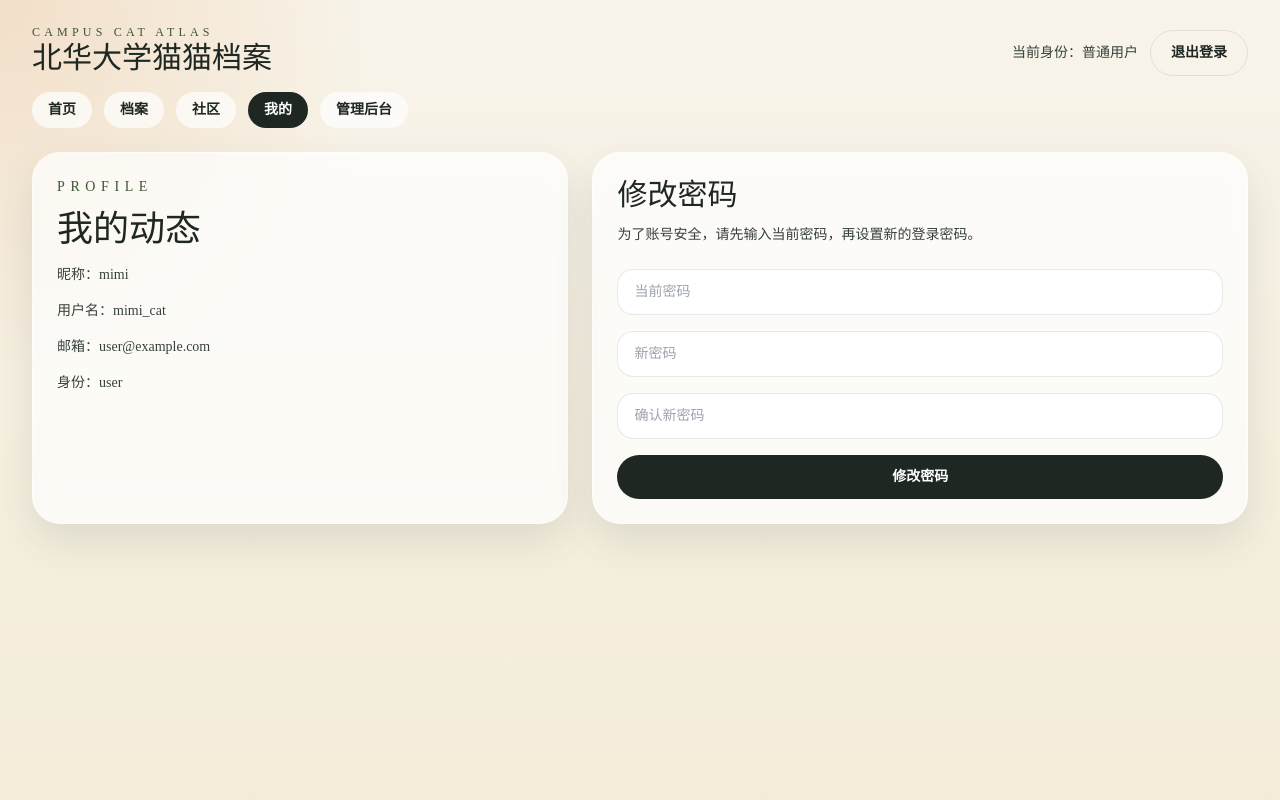
Test: Public pages › blocks password change when the confirmation password does not match
The width and height of the screenshot is (1280, 800).
Expected: the text "用户名：mimi_cat" is shown, [57,303,166,318]
Step 1. Type "Secret123!" into the password field with placeholder "当前密码" → (920, 292), box [617,269,1223,315]
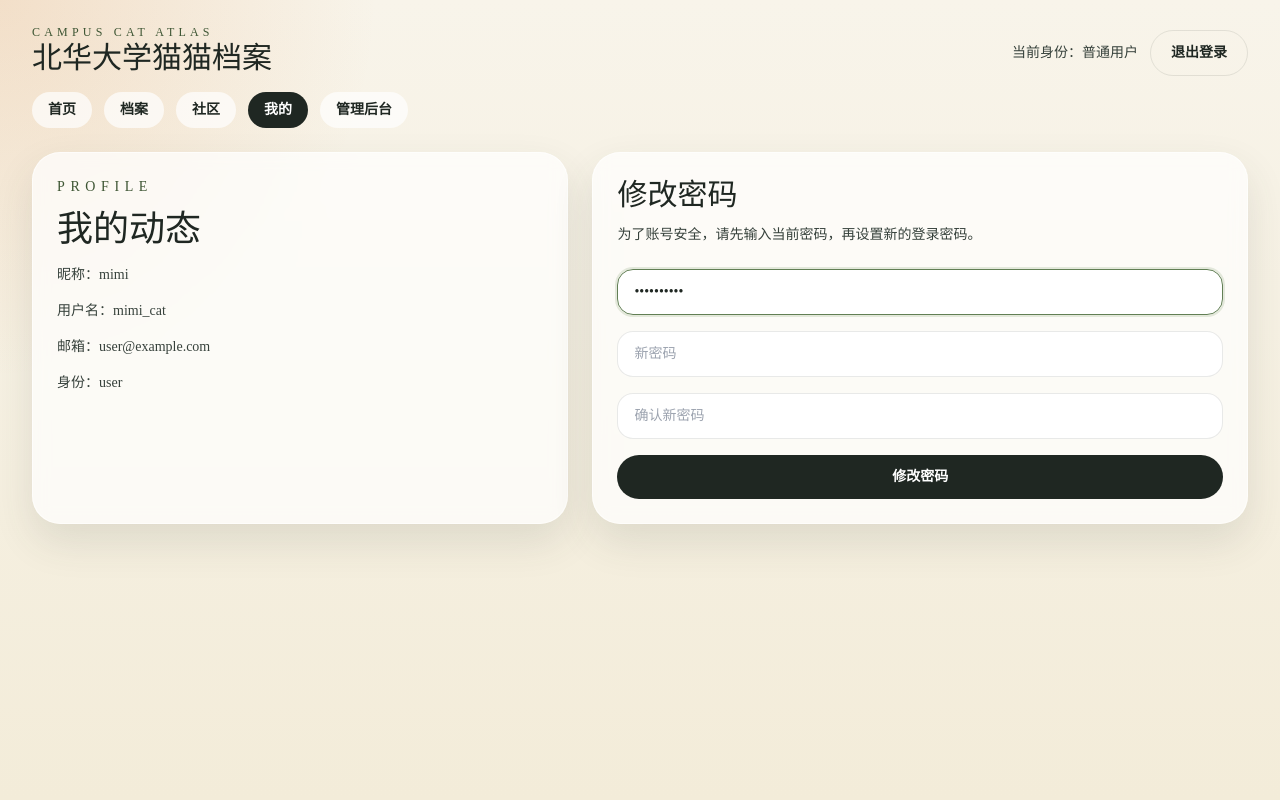
Step 2. Type "BrandNew123!" into the password field with placeholder "新密码" → (920, 354), box [617,331,1223,377]
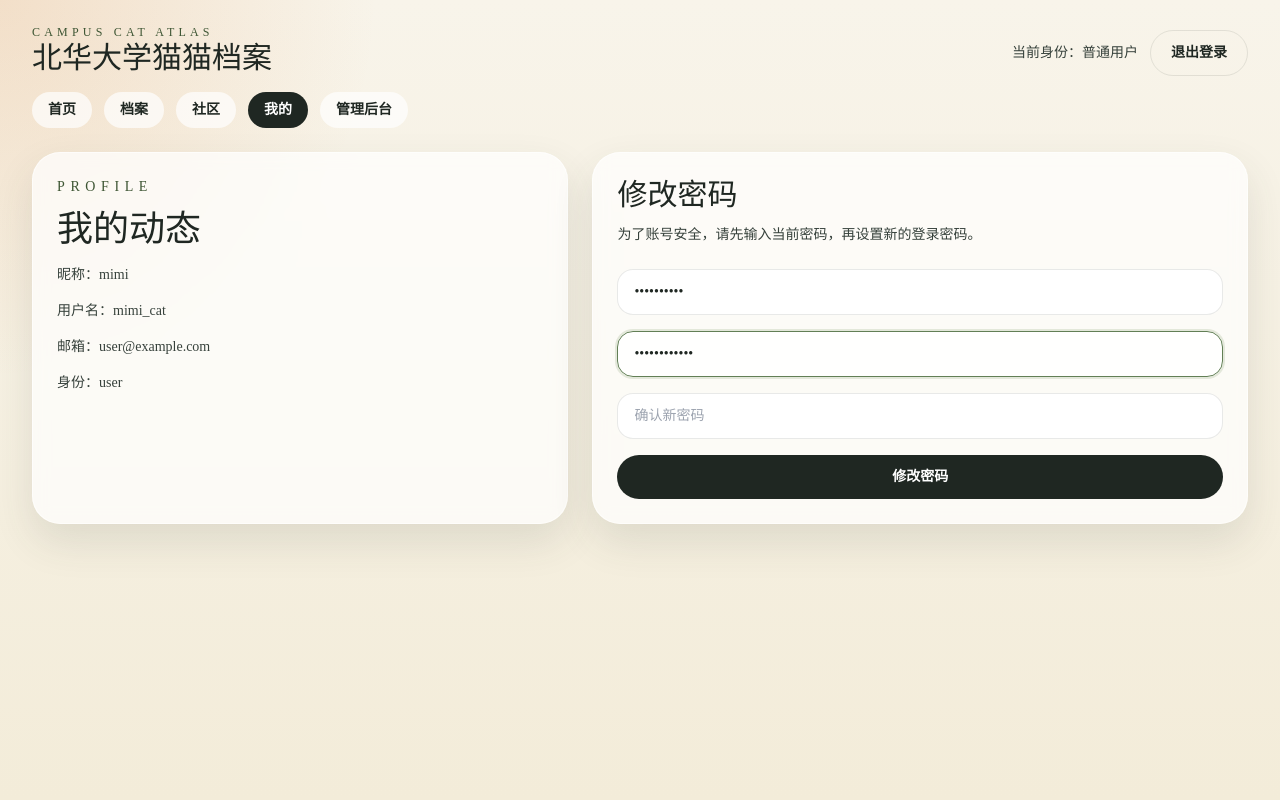
Step 3. Type "Mismatch123!" into the password field with placeholder "确认新密码" → (920, 416), box [617,393,1223,439]
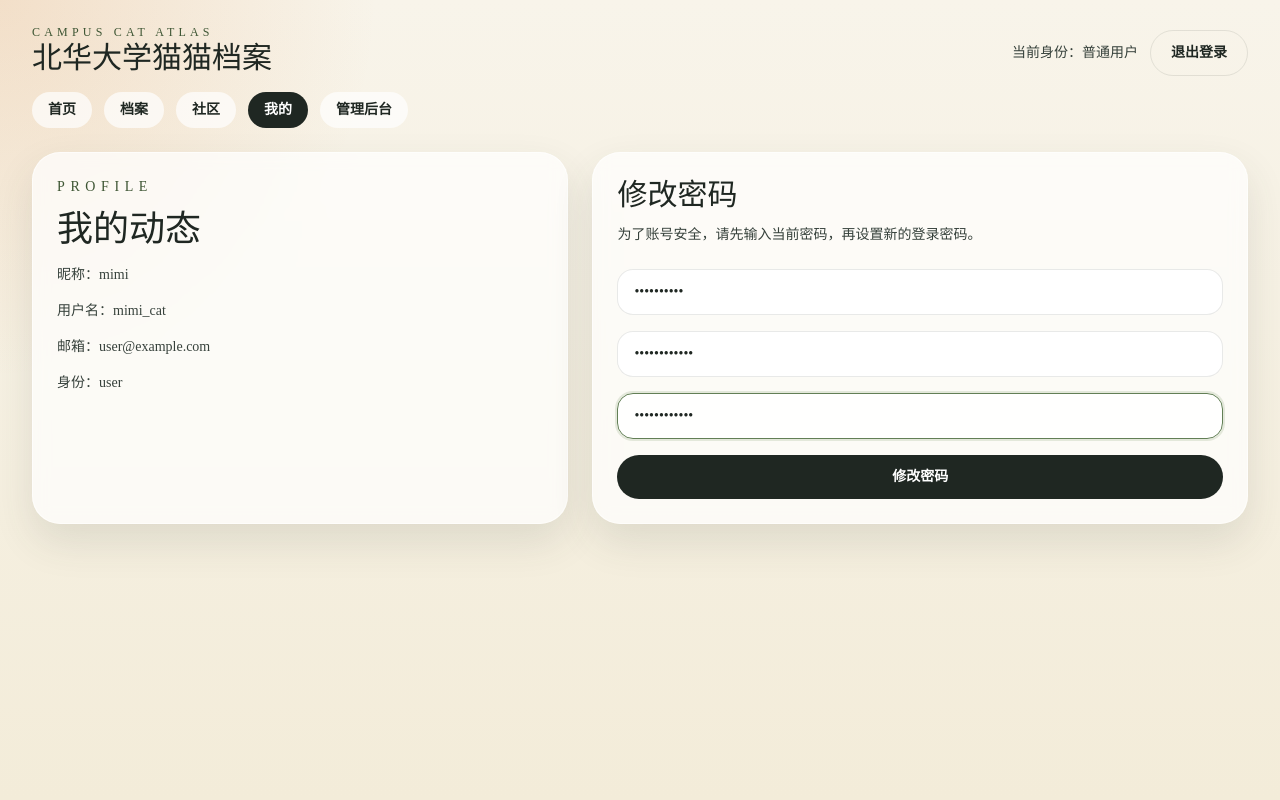
Step 4. Click the button "修改密码" → (920, 477), box [617,455,1223,499]
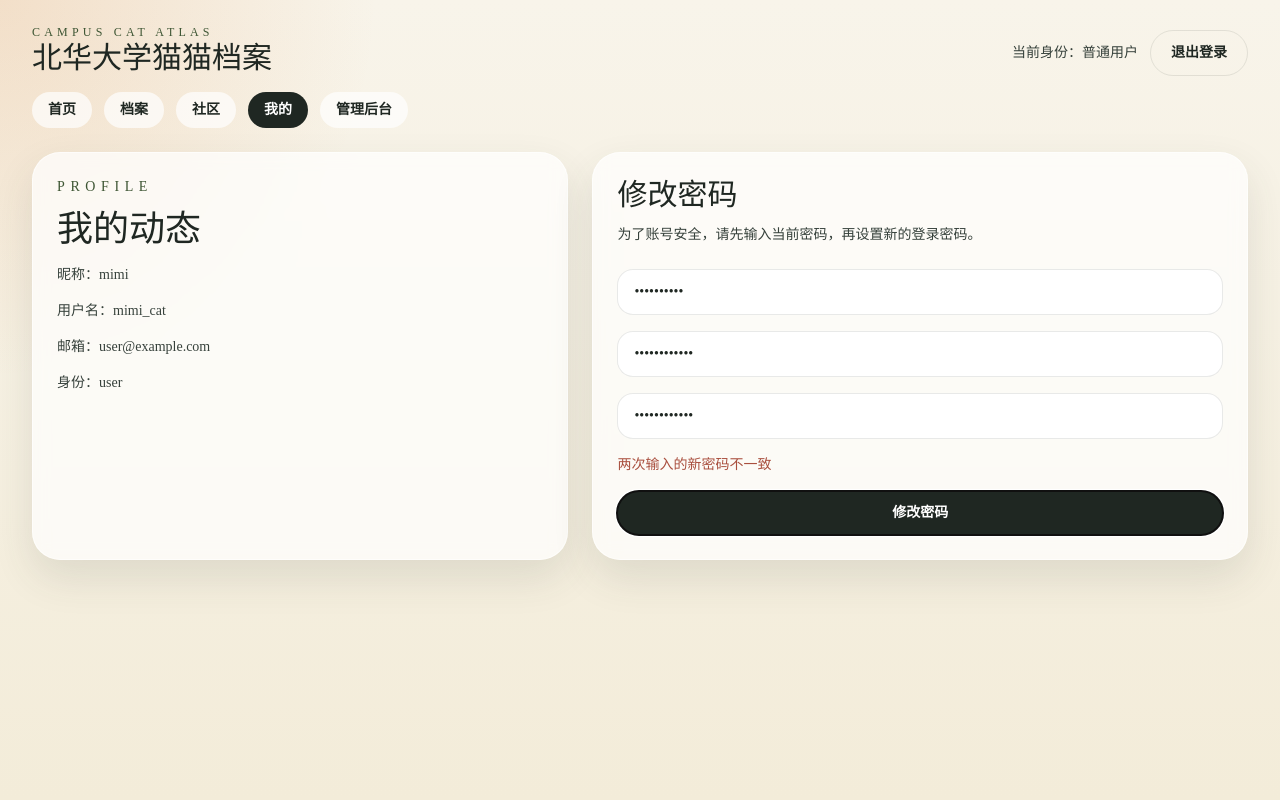
Expected: the text "两次输入的新密码不一致" is shown, [617,457,771,472]
